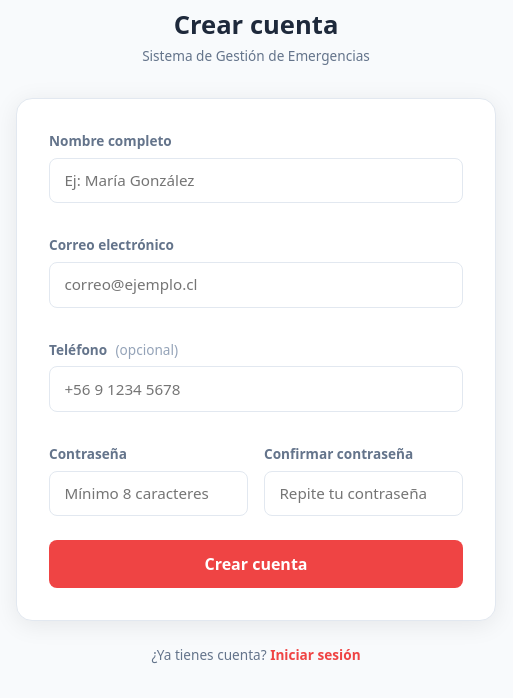
Test: Registro — validaciones › muestra error si las contraseñas no coinciden
Type "Mati" into the field labelled "Nombre completo".
click(256, 180); type("Mati")  # box x1=49 y1=158 x2=463 y2=203
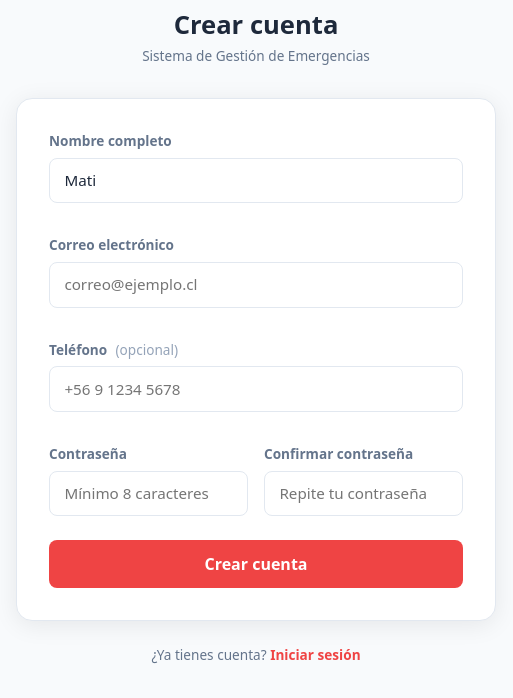
Type "matidroid1@gmail.com" into the field labelled "Correo electrónico".
click(256, 285); type("matidroid1@gmail.com")  # box x1=49 y1=262 x2=463 y2=308
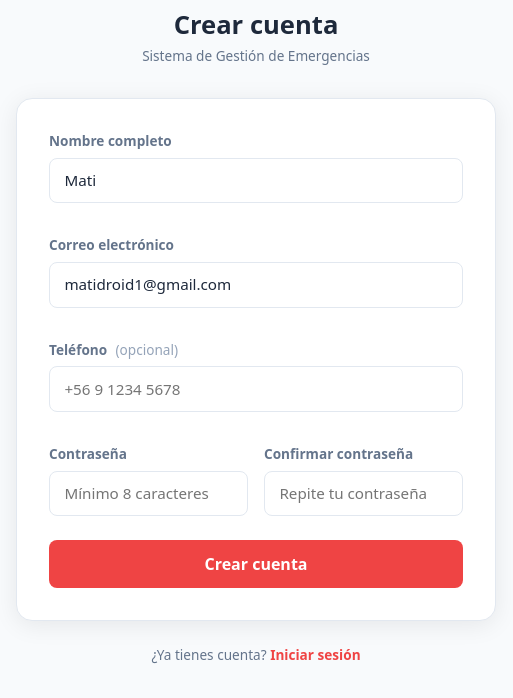
Type "password123" into the password field labelled "Contraseña".
click(148, 494); type("password123")  # box x1=49 y1=471 x2=248 y2=516
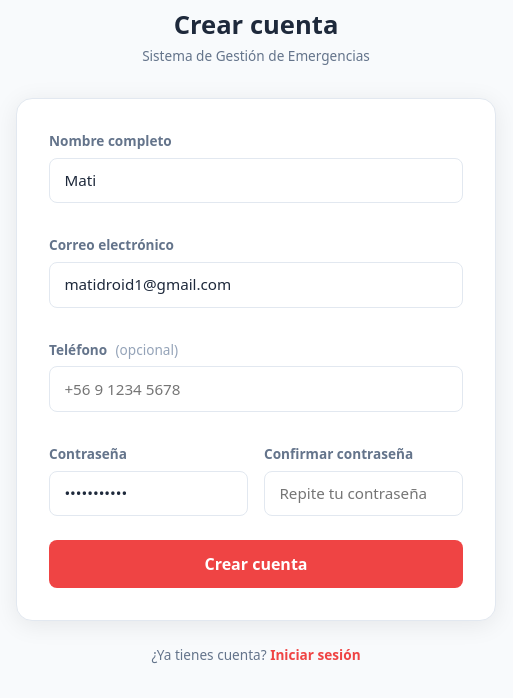
Type "password999" into the password field labelled "Confirmar contraseña".
click(364, 494); type("password999")  # box x1=264 y1=471 x2=463 y2=516
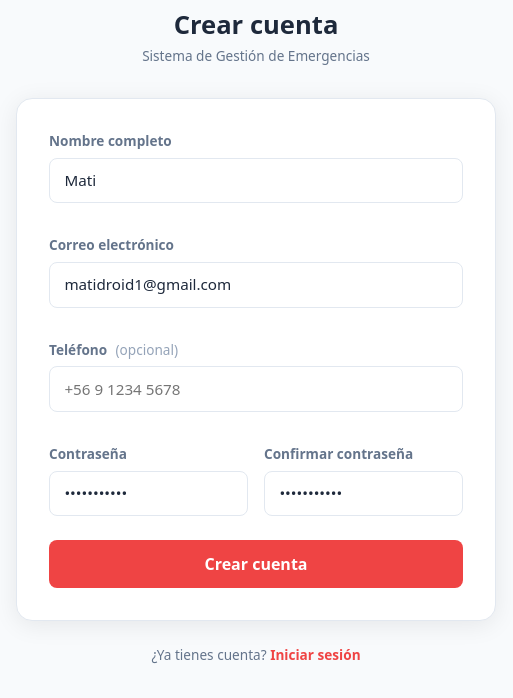
Click the button "Crear cuenta".
click(256, 564)  # box x1=49 y1=540 x2=463 y2=588
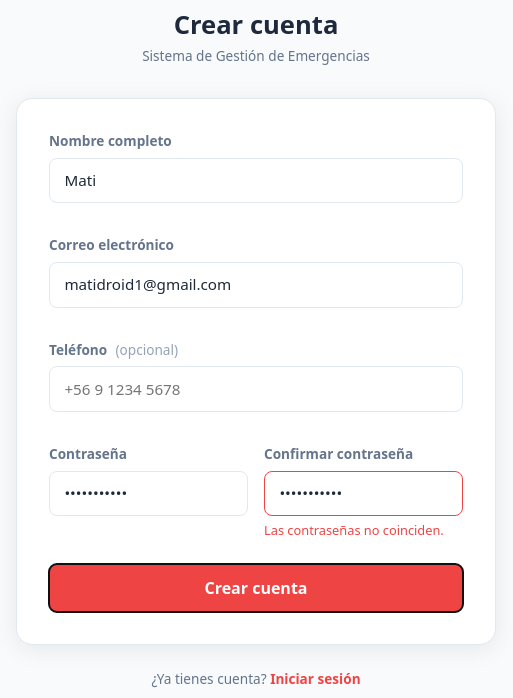
Expected: the text "Las contraseñas no coinciden." is shown, x1=264 y1=521 x2=463 y2=540
